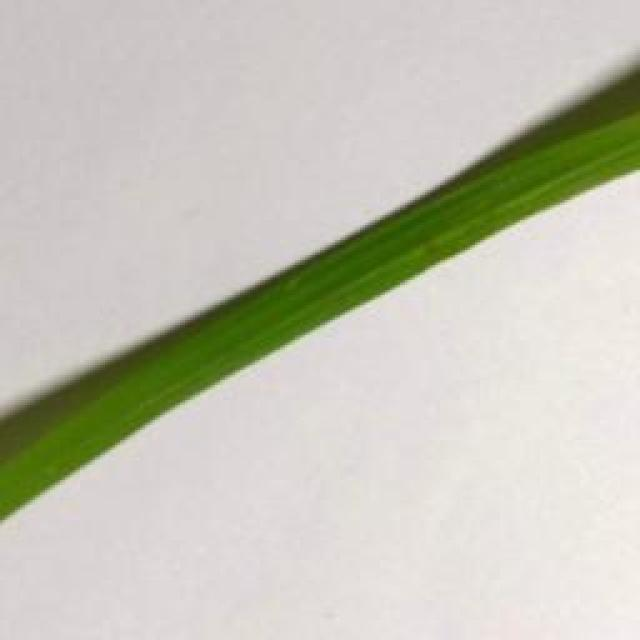Brown_Spot: (416, 236, 455, 268)
